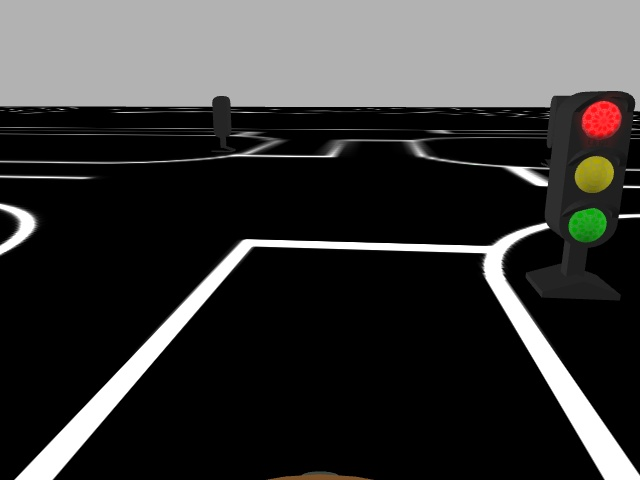red_light: (558, 92, 631, 246)
